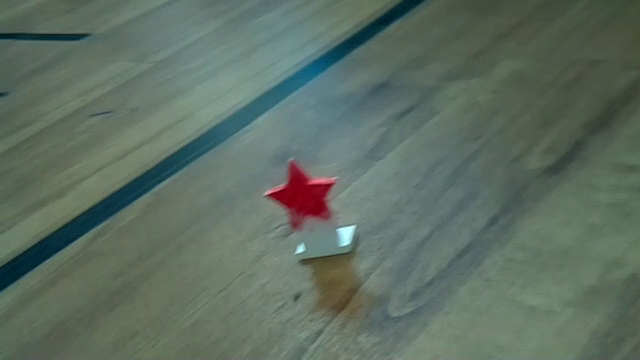star: (255, 152, 378, 269)
